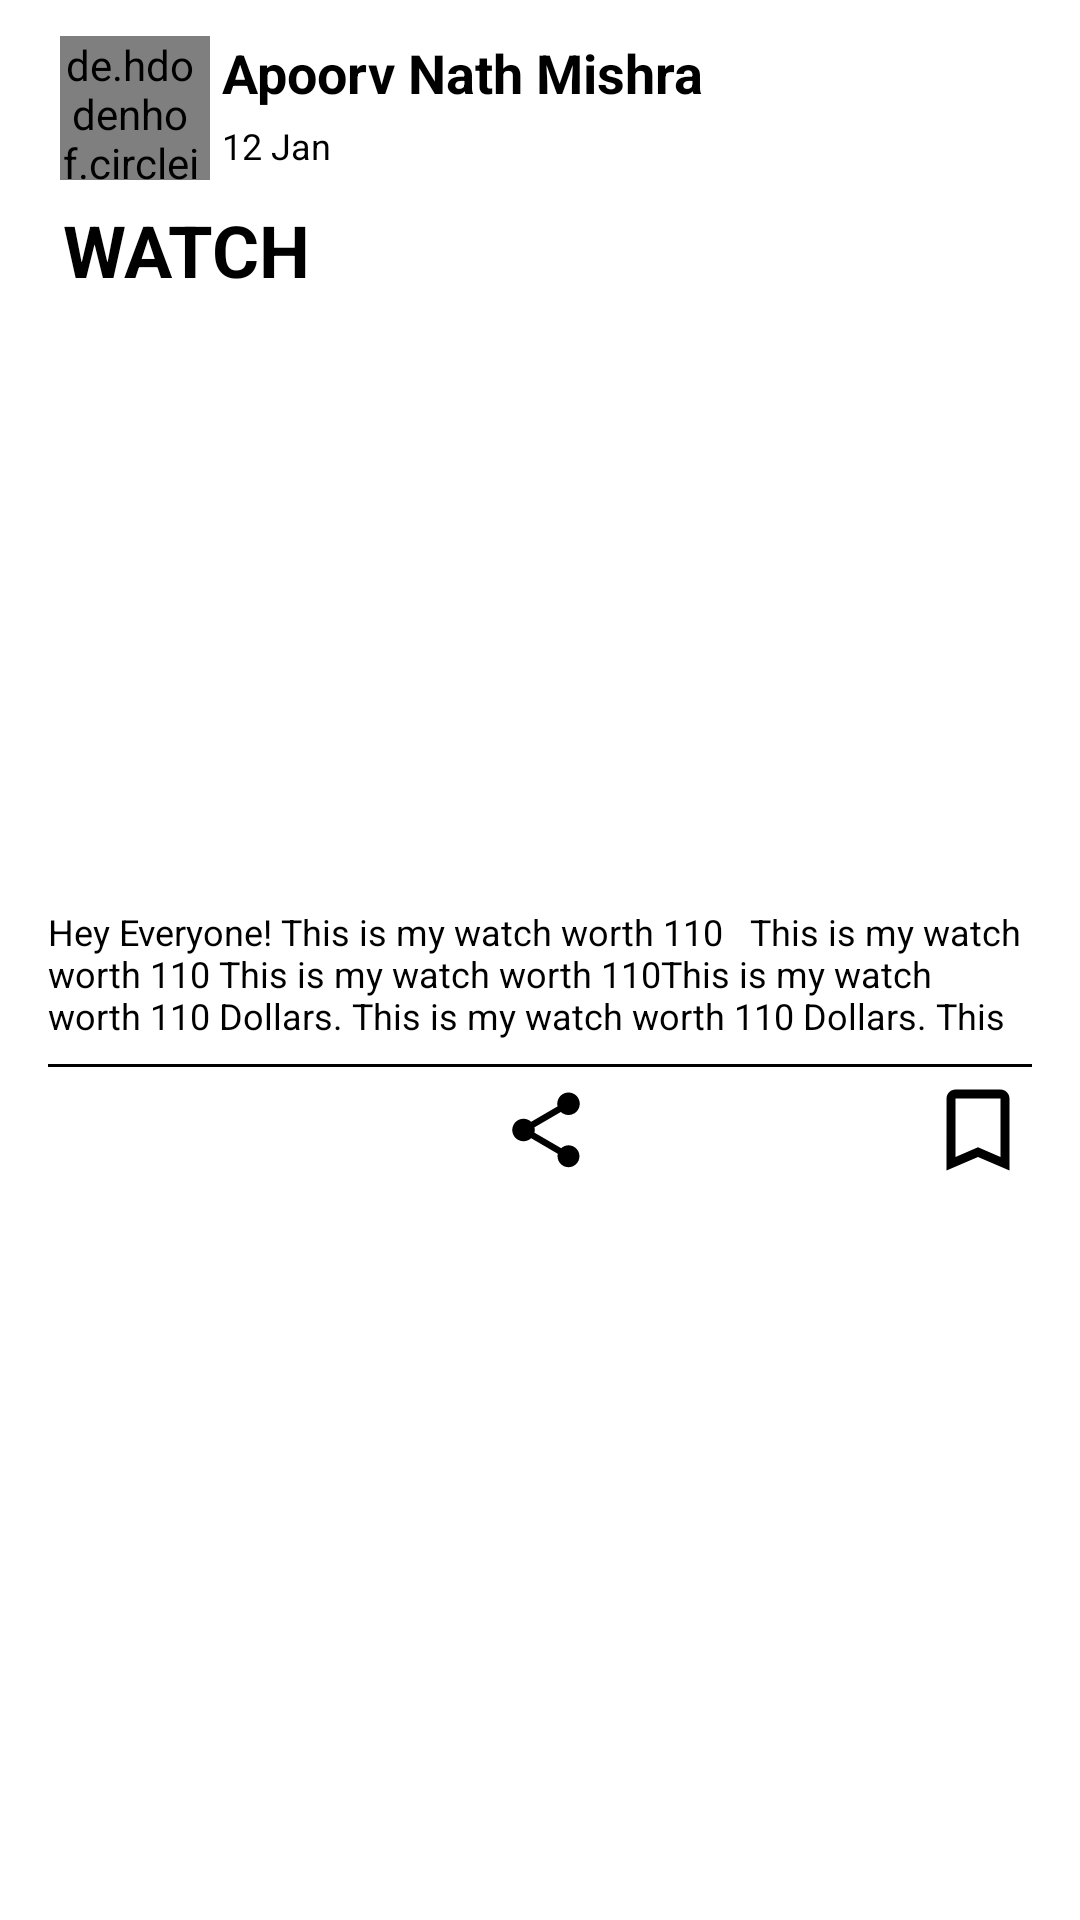

Icon click points for this 1080px x 1920px phone screenshot, format [x,y]:
save: [978,1130]
share: [546,1130]
